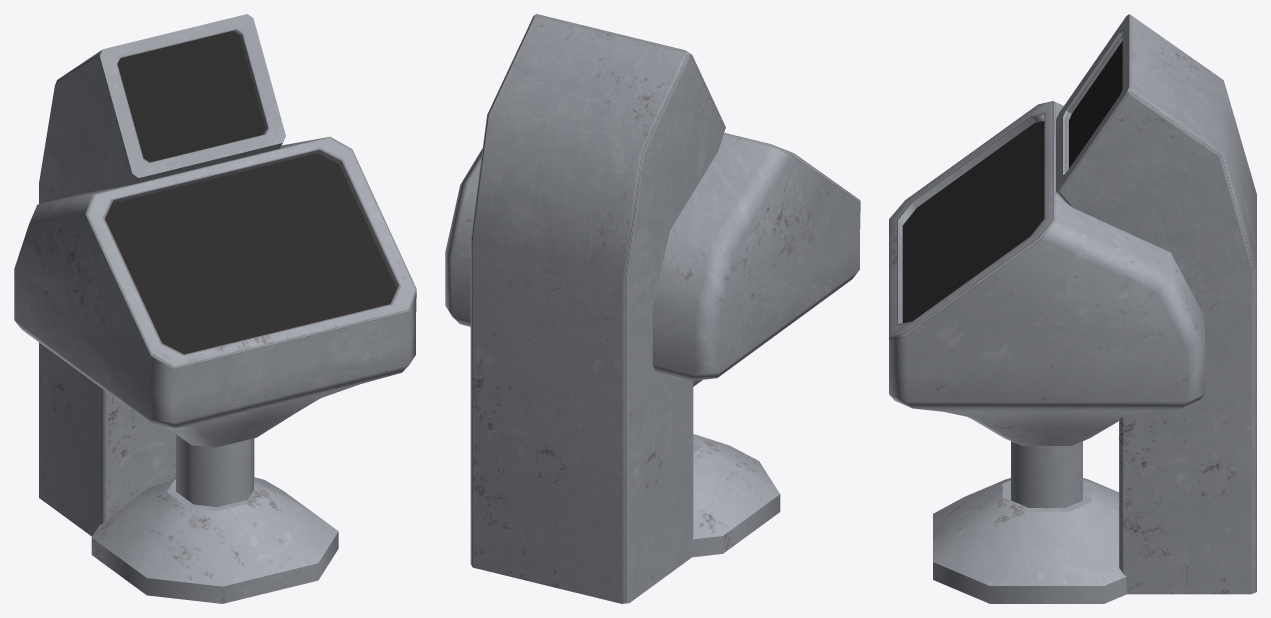
The model's file is Fbx_Props_LabEq_SmallCom.fbx.
3 renders of one model, left to right at view 1: azimuth 30°, elevation 25°; view 2: azimuth 150°, elevation 25°; view 3: azimuth 270°, elevation 25°, orthographic. The views are drawn at different scales.
Visible parts, largest first — view 1: pCube72, pCube73; view 2: pCube73, pCube72; view 3: pCube72, pCube73.
Part boxes in pixels (x1,y1,x2,y2): pCube72: [14, 136, 416, 603]; pCube73: [39, 14, 285, 536]; pCube73: [470, 14, 725, 603]; pCube72: [445, 133, 860, 557]; pCube72: [889, 101, 1204, 603]; pCube73: [1056, 14, 1256, 594].
Size of the model in its own units: 110 by 194 by 128.
